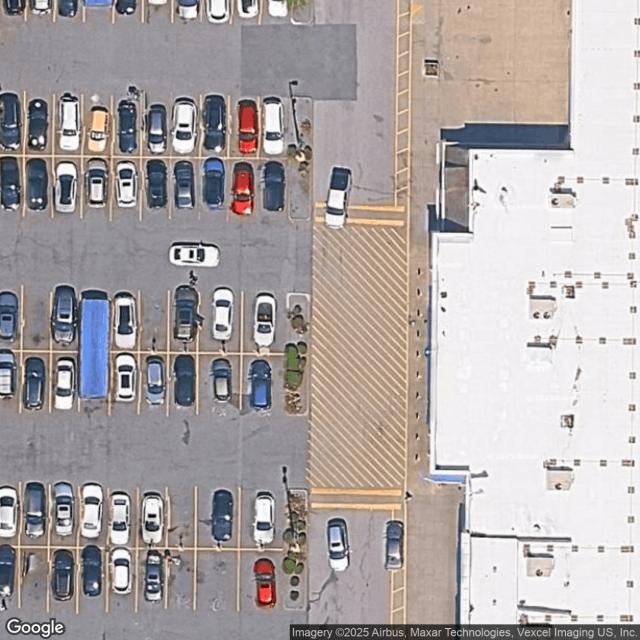car: (324, 167, 350, 227), (51, 285, 77, 343), (173, 285, 201, 338), (171, 97, 197, 154), (112, 292, 138, 347), (262, 96, 285, 154), (211, 489, 234, 545), (204, 96, 226, 154), (171, 244, 220, 270), (140, 491, 164, 544), (248, 359, 272, 412), (230, 162, 254, 215), (252, 492, 275, 547), (54, 160, 78, 212), (237, 98, 259, 154), (202, 158, 226, 209), (253, 558, 277, 609), (60, 96, 81, 154), (22, 483, 44, 538), (53, 481, 75, 536), (173, 355, 196, 407), (23, 358, 46, 410), (262, 162, 286, 211), (52, 549, 75, 600), (255, 295, 277, 348), (109, 491, 131, 544), (81, 483, 102, 537), (26, 159, 48, 210), (117, 100, 138, 153), (0, 158, 21, 211), (86, 158, 109, 206), (87, 105, 110, 153), (1, 93, 20, 150), (115, 160, 138, 207), (110, 546, 132, 595), (328, 521, 348, 574), (56, 360, 76, 412), (212, 290, 232, 342), (210, 358, 232, 405), (173, 160, 194, 209), (384, 520, 404, 571), (22, 552, 42, 602), (146, 161, 166, 209), (114, 354, 134, 401), (82, 544, 100, 596), (0, 488, 18, 538), (0, 544, 16, 600), (145, 358, 164, 404), (0, 291, 17, 342), (145, 553, 163, 601), (147, 104, 165, 152), (30, 100, 47, 148), (0, 350, 16, 399), (205, 0, 229, 23), (177, 0, 199, 20), (237, 0, 258, 19), (58, 0, 78, 17), (267, 1, 287, 18), (30, 0, 51, 16), (115, 0, 136, 15), (4, 0, 24, 15), (83, 0, 112, 8)
